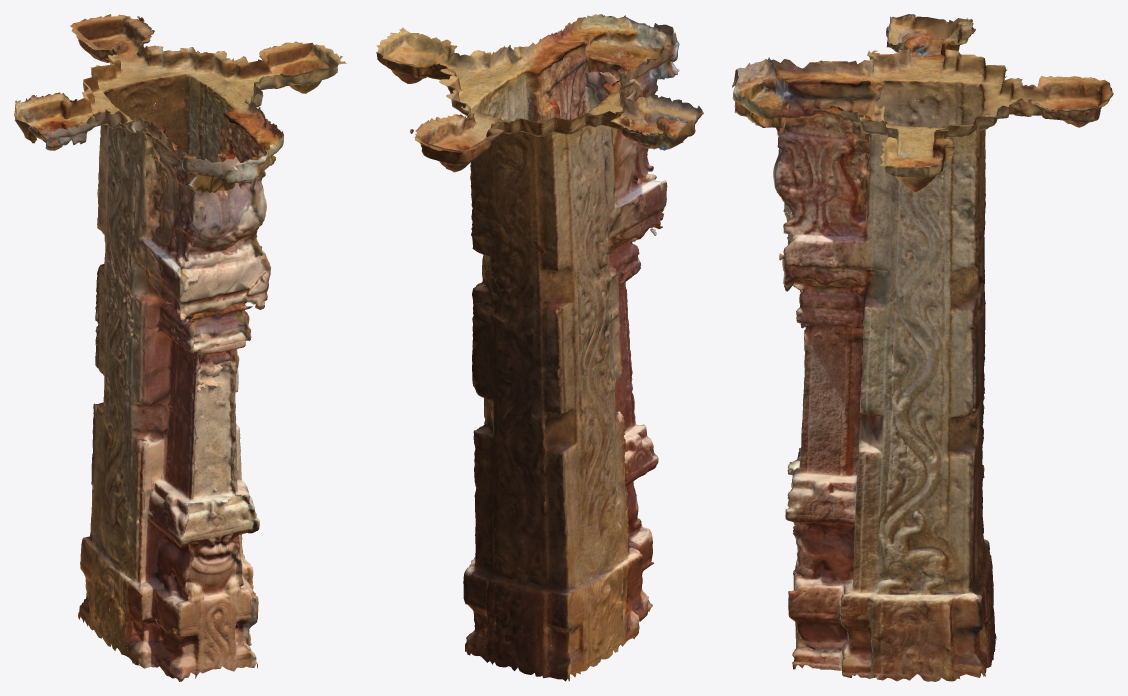
File: pillar.glb
3 renders of one model, left to right at view 1: azimuth 30°, elevation 25°; view 2: azimuth 150°, elevation 25°; view 3: azimuth 270°, elevation 25°, orthographic. The views are drawn at different scales.
Parts seen in each view (by area): view 1: Object_3, Object_2; view 2: Object_3, Object_2; view 3: Object_3, Object_2.
Boxes of the visible parts, x1,y1,x2,y2 form: Object_3: (71,19,272,681); Object_2: (14,14,346,681); Object_3: (442,15,674,681); Object_2: (376,14,703,677); Object_3: (732,41,1112,681); Object_2: (732,14,1113,681).
Size of the model in its own units: 9.86 by 16.78 by 10.18.
Materials: 1 (1 with a texture image).
